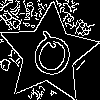Q: (23, 28, 78, 89)
